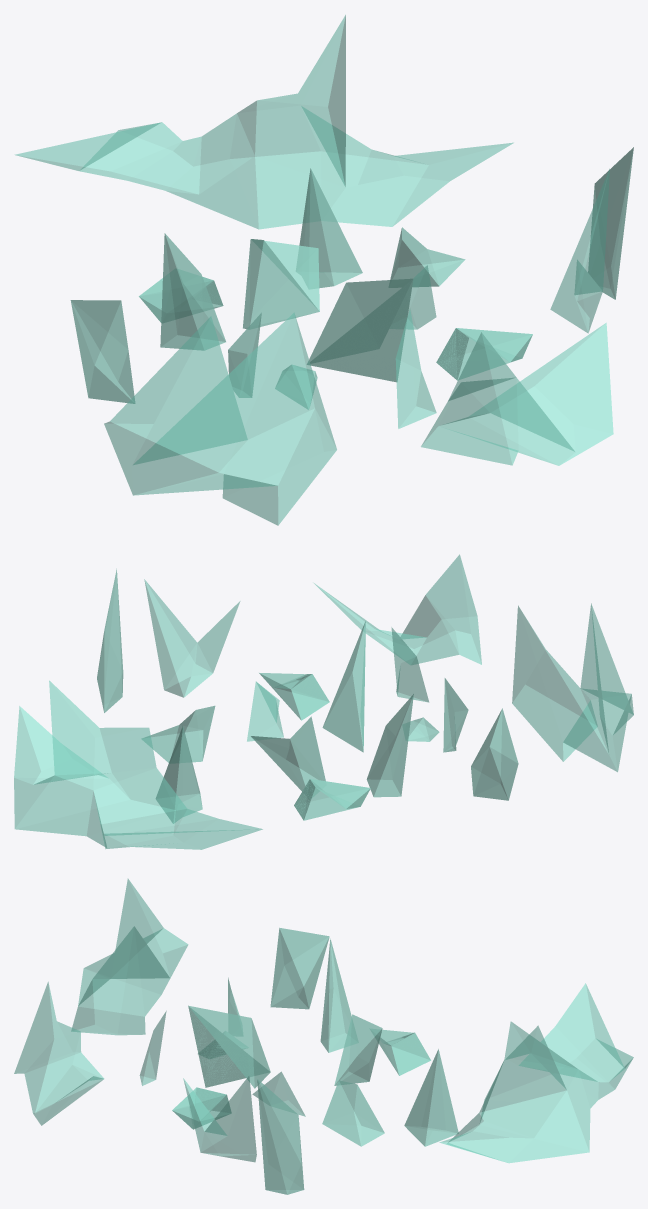
The model's file is glass_spikes1.fbx.
3 renders of one model, top to bottom at view 1: azimuth 30°, elevation 25°; view 2: azimuth 150°, elevation 25°; view 3: azimuth 270°, elevation 25°, orthographic. The views are drawn at different scales.
Parts seen in each view (by area): view 1: Cube.002, Cube.007, Cube, Cube.001; view 2: Cube.007, Cube, Cube.002, Cube.001; view 3: Cube.007, Cube, Cube.002, Cube.001.
Part boxes in pixels (x1,y1,x2,y2): Cube.002: (104,312,613,525); Cube.007: (70,169,609,409); Cube: (15,15,513,229); Cube.001: (296,147,633,428); Cube.007: (142,579,518,820); Cube: (14,680,262,849); Cube.002: (314,554,633,771); Cube.001: (97,568,428,823); Cube.007: (172,927,430,1162); Cube: (439,983,633,1163); Cube.002: (14,879,188,1125); Cube.001: (139,1011,458,1194).
Bounding box in the file's own units: 6825 × 2219 × 8274.
